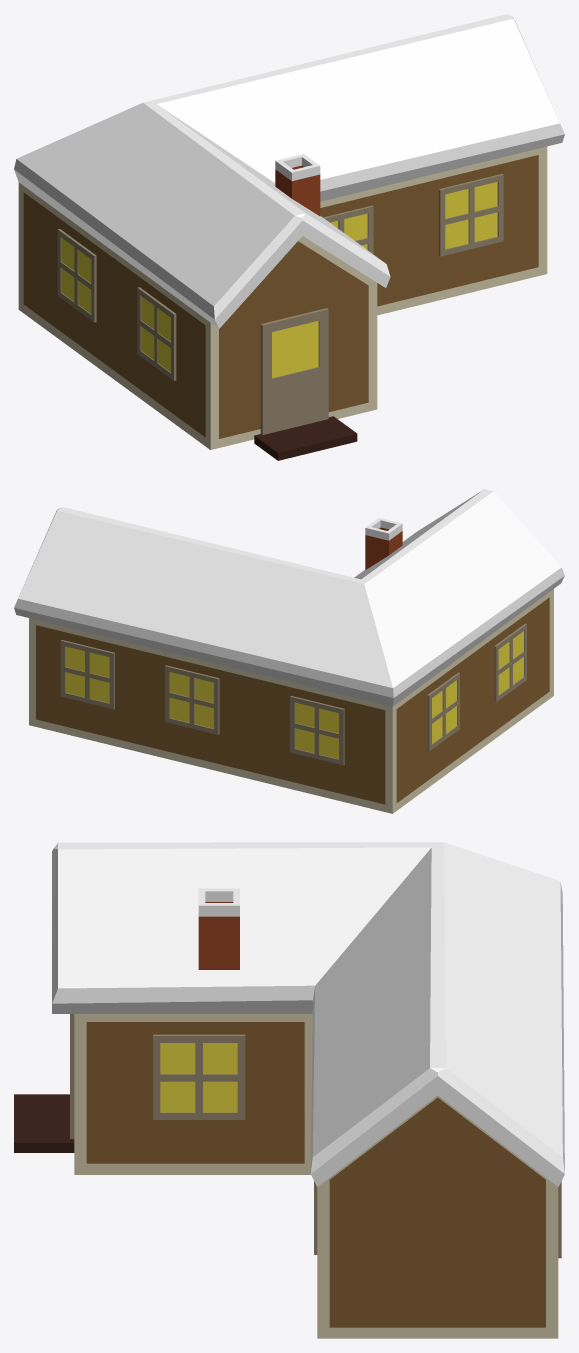
Rendered from House2.fbx.
The picture shows the model from 3 angles, top to bottom: view 1: azimuth 30°, elevation 25°; view 2: azimuth 150°, elevation 25°; view 3: azimuth 270°, elevation 25°; orthographic projection. The views are drawn at different scales.
Visible parts, largest first — view 1: House2; view 2: House2; view 3: House2.
Boxes of the visible parts, x1,y1,x2,y2 form: House2: (14, 14, 564, 460); House2: (14, 489, 564, 813); House2: (14, 842, 564, 1338).
Size of the model in its own units: 794 by 377 by 663.
